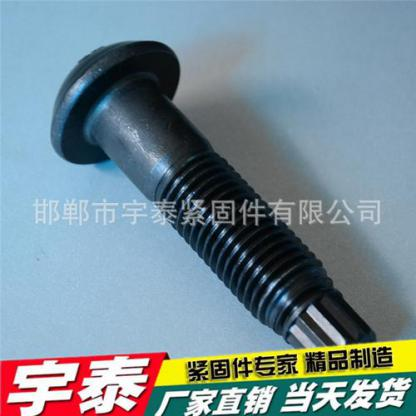FOD: (48, 37, 375, 367)
